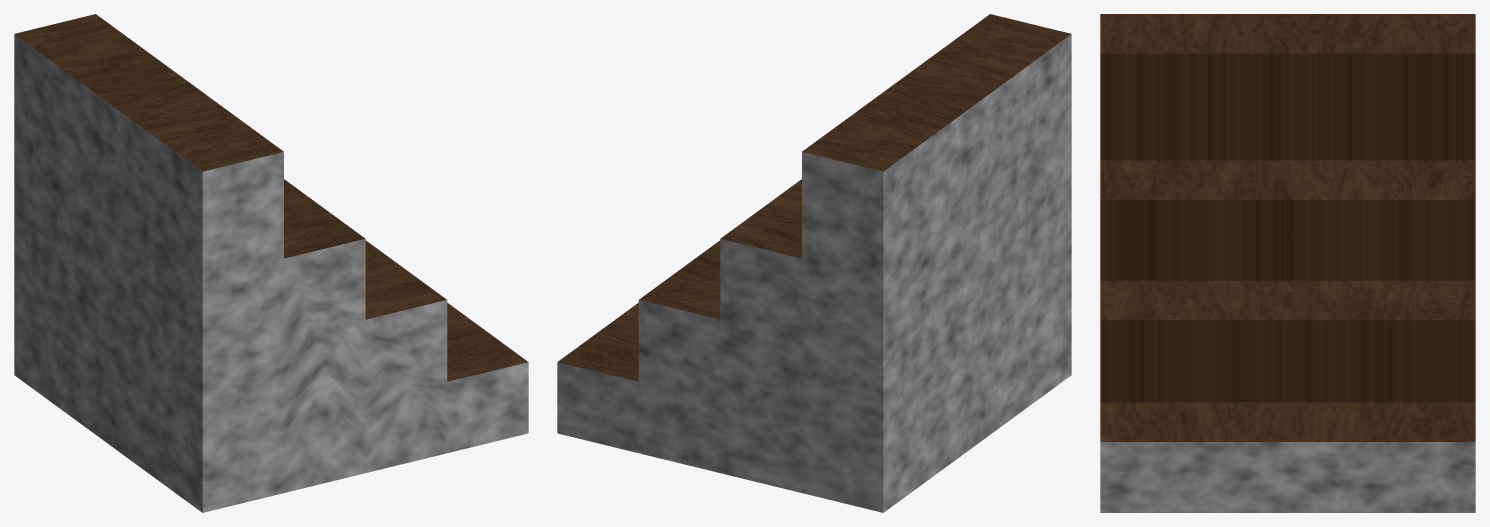
File: Schody_Zrobione_Mam_Nadzieje.fbx
3 renders of one model, left to right at view 1: azimuth 30°, elevation 25°; view 2: azimuth 150°, elevation 25°; view 3: azimuth 270°, elevation 25°, orthographic.
Parts seen in each view (by area): view 1: Cube.008; view 2: Cube.008; view 3: Cube.008.
Boxes of the visible parts, box(x1,y1,x2,y2) form: Cube.008: box(14, 14, 528, 512); Cube.008: box(557, 14, 1071, 512); Cube.008: box(1100, 14, 1475, 512).
Bounding box in the file's own units: 6 × 6 × 6.
1 material, 1 textured.
